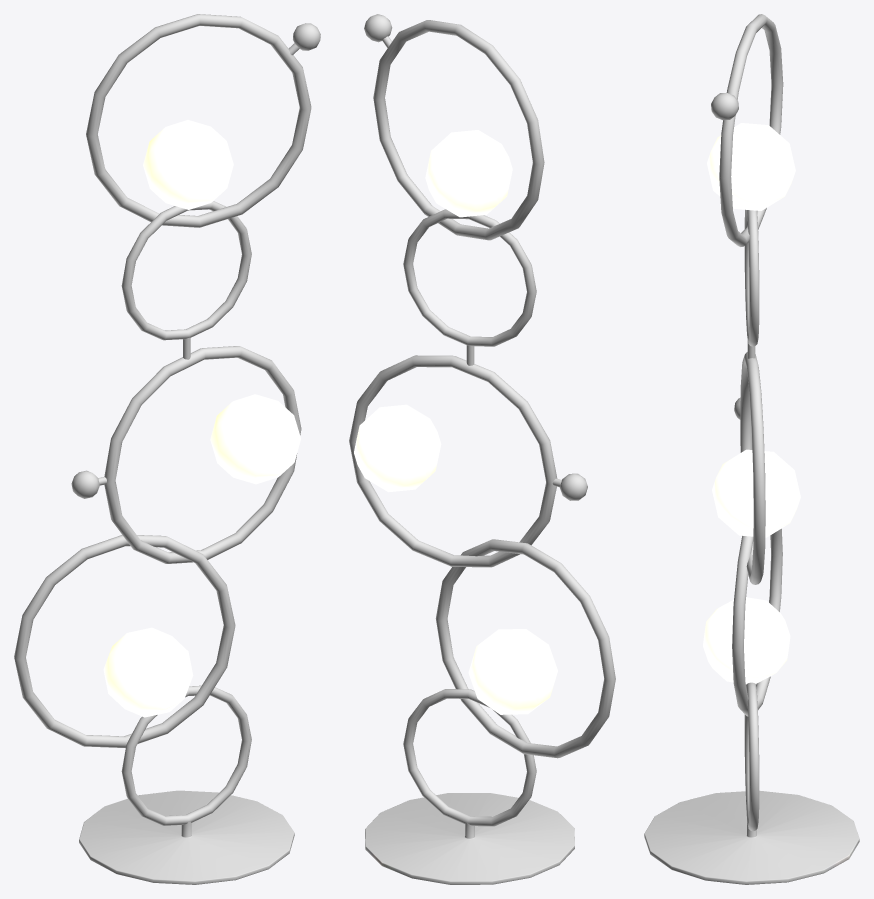
File: Lights_Floor_Lamps_6.fbx
The picture shows the model from 3 angles, left to right: view 1: azimuth 30°, elevation 25°; view 2: azimuth 150°, elevation 25°; view 3: azimuth 270°, elevation 25°; orthographic projection.
Parts seen in each view (by area): view 1: Cylinder.038; view 2: Cylinder.038; view 3: Cylinder.038.
Part boxes in pixels (box(x1,y1,x2,y2)): Cylinder.038: box(14, 14, 320, 884); Cylinder.038: box(349, 14, 615, 884); Cylinder.038: box(644, 14, 859, 884).
Size of the model in its own units: 64.69 by 183 by 43.5.
